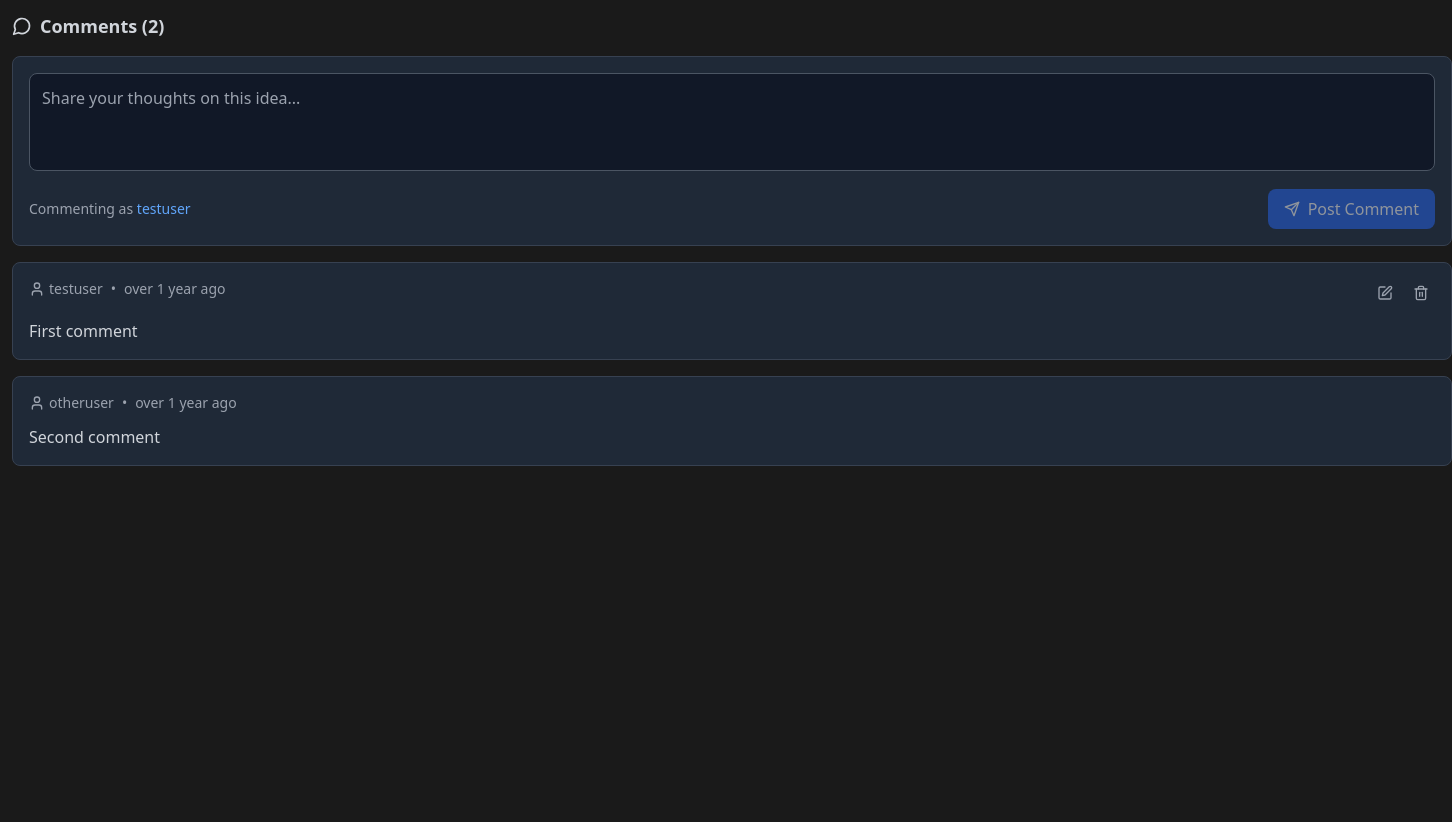
Comments System Integration Tests › should submit a new comment successfully
Expected: the heading "Comments (2)" is shown, [40,12,164,40]
# Find and fill the comment form
In the text box with placeholder "Share your thoughts on this idea...": (732, 122) [29,73,1435,171], type "New test comment"
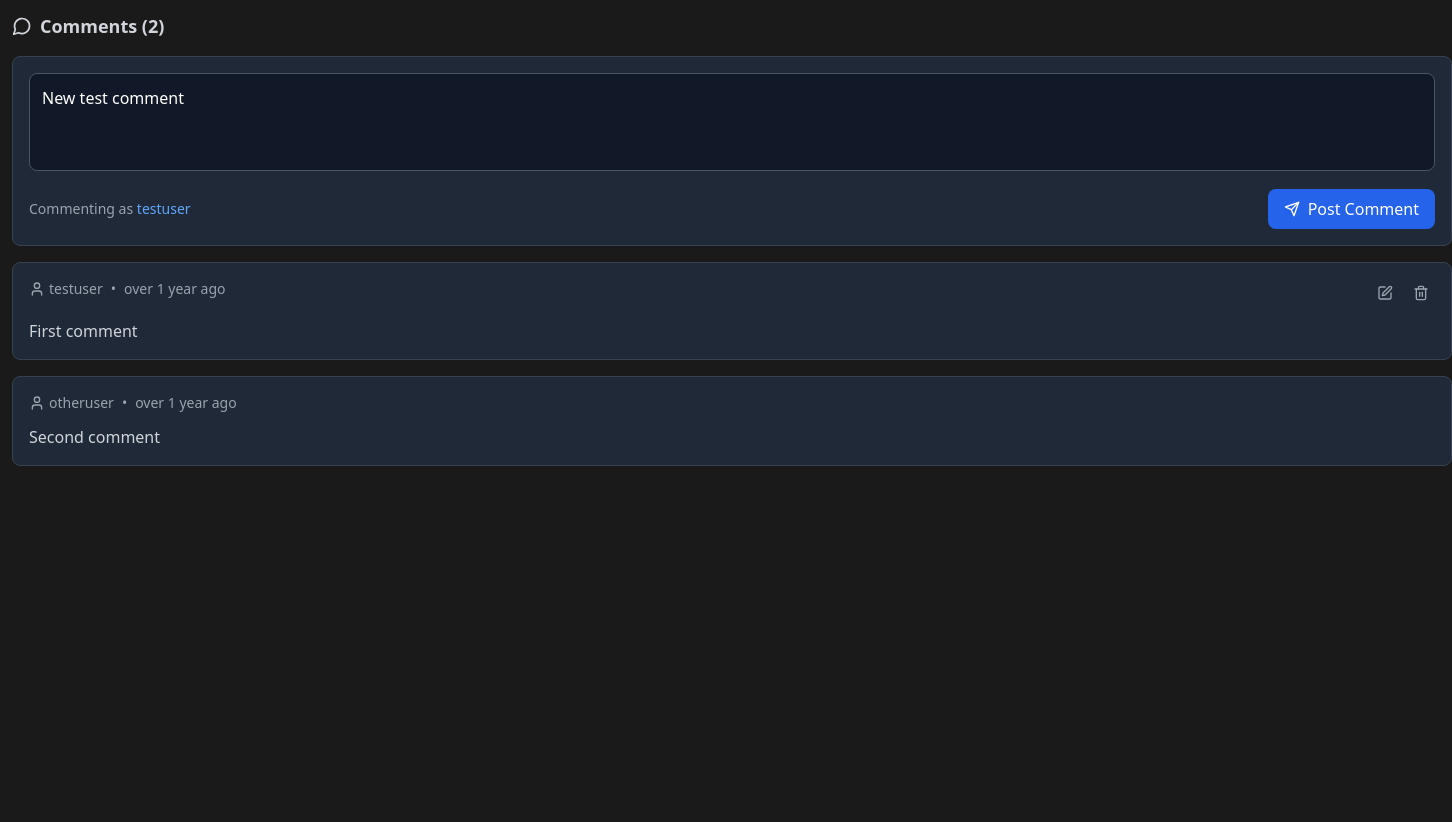
# Submit the comment
Click the button "Post Comment": click(1351, 209) [1268,189,1435,229]
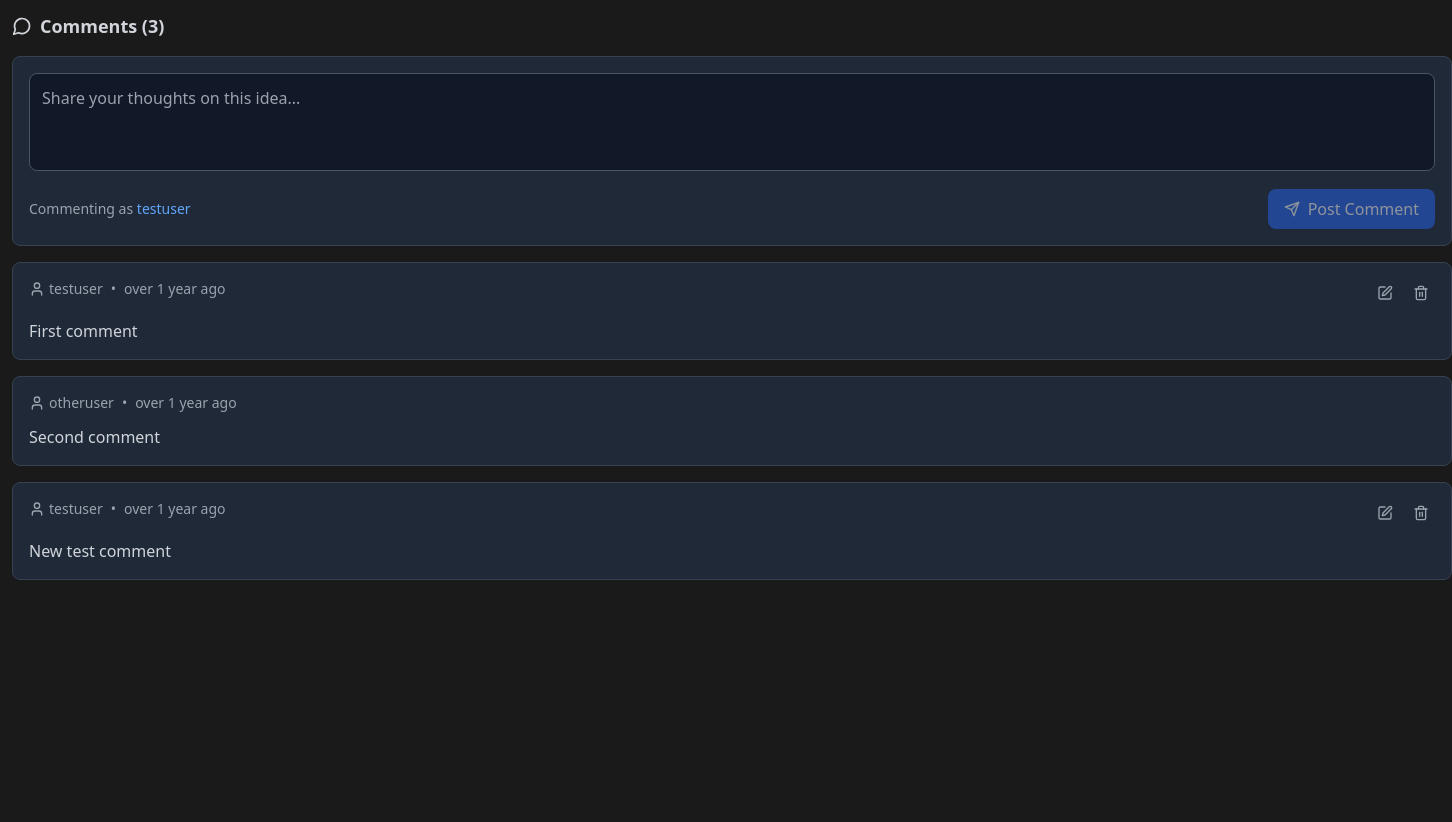
Result: the text "New test comment" is shown at [29,540,171,562]
